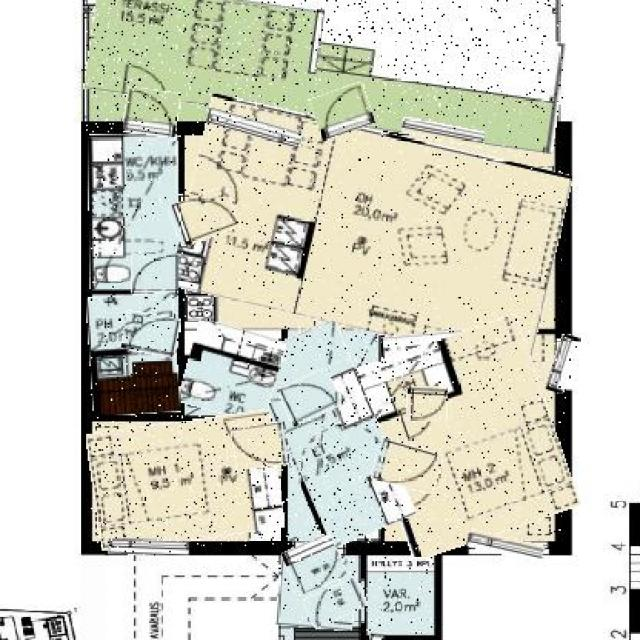door: (171, 191, 238, 243), (286, 537, 345, 591), (374, 442, 441, 489), (312, 86, 372, 136), (280, 374, 340, 423), (232, 423, 290, 468), (125, 88, 180, 135), (122, 312, 178, 356), (305, 583, 366, 623), (131, 254, 178, 291), (406, 388, 448, 422)
window: (206, 114, 302, 141), (402, 120, 484, 145), (468, 532, 544, 558), (549, 335, 577, 394), (108, 540, 189, 555), (368, 632, 389, 640)
zone: (179, 114, 563, 349), (86, 0, 563, 137), (363, 326, 566, 549), (265, 324, 397, 544), (90, 416, 282, 546), (89, 134, 177, 289), (90, 294, 178, 415), (182, 325, 283, 420), (277, 556, 355, 630), (381, 332, 474, 390), (366, 557, 434, 634)
